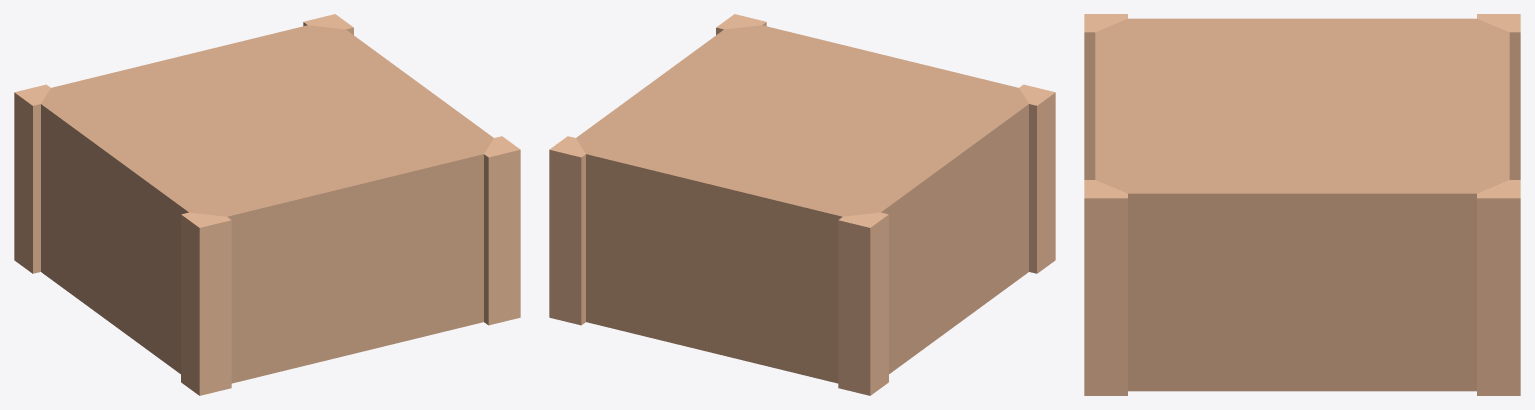
Rendered from wallWoodBlockHalf.glb.
3 views of the same model, side by side, from view 1: azimuth 30°, elevation 25°; view 2: azimuth 150°, elevation 25°; view 3: azimuth 270°, elevation 25° (orthographic). The views are drawn at different scales.
Parts seen in each view (by area): view 1: wallWoodBlockHalf; view 2: wallWoodBlockHalf; view 3: wallWoodBlockHalf.
Boxes of the visible parts, box(x1,y1,x2,y2) form: wallWoodBlockHalf: box(14, 14, 520, 395); wallWoodBlockHalf: box(549, 14, 1055, 395); wallWoodBlockHalf: box(1084, 14, 1520, 395).
Bounding box in the file's own units: 1 × 0.5 × 1.
